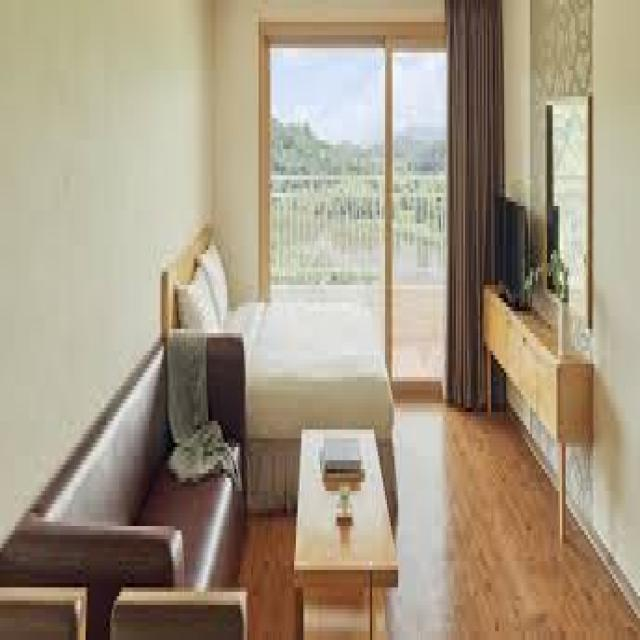Sofa: (11, 323, 248, 628)
Table: (294, 424, 399, 638)
tv: (491, 194, 530, 314)
window: (263, 28, 462, 388)
